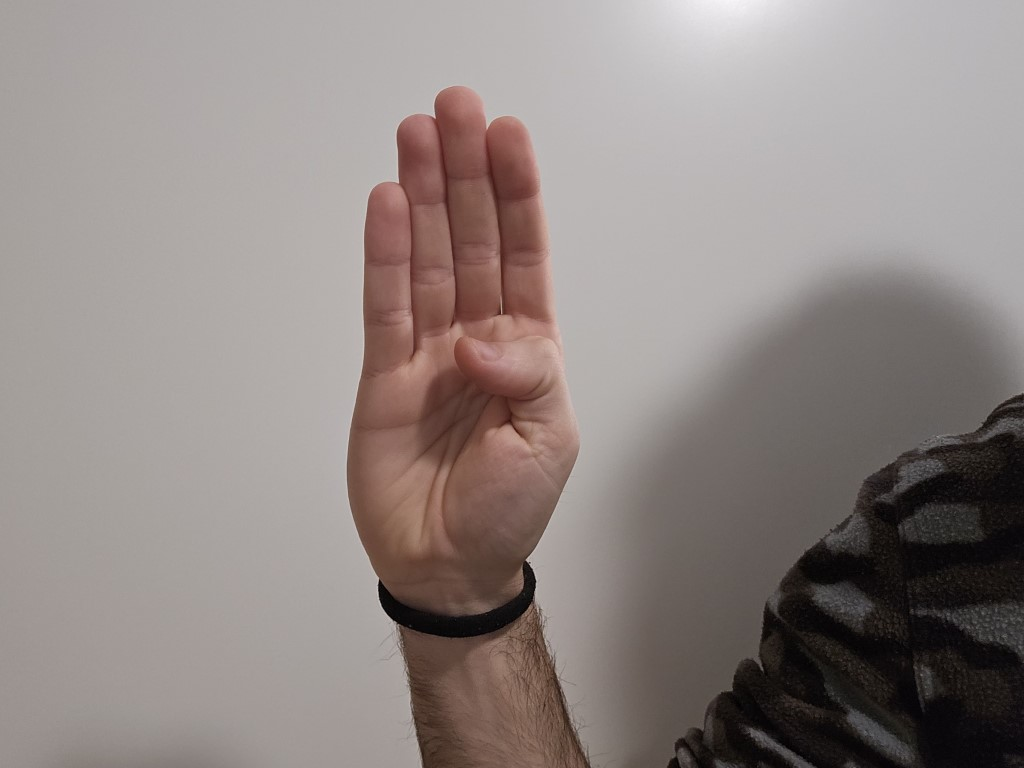b: (327, 71, 600, 611)
